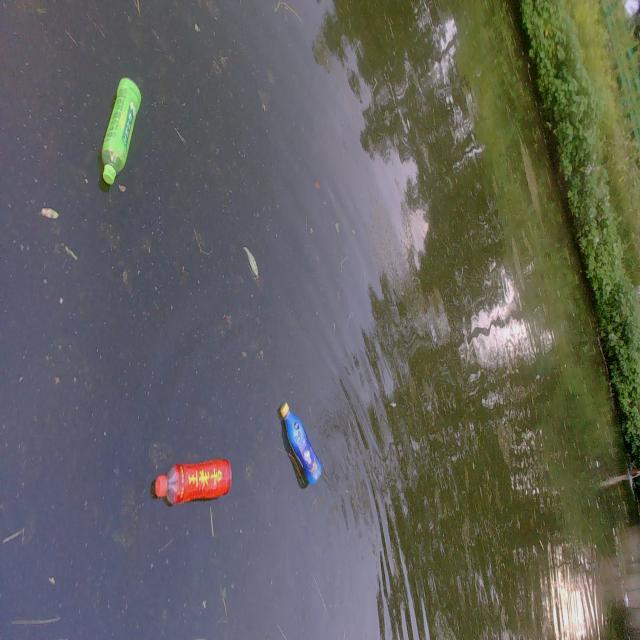bottle: (90, 64, 150, 196), (138, 446, 250, 513), (270, 389, 340, 487)
